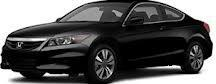front_view: (2, 28, 94, 81)
headlight: (44, 30, 96, 48)
side_glass: (119, 4, 179, 24)
